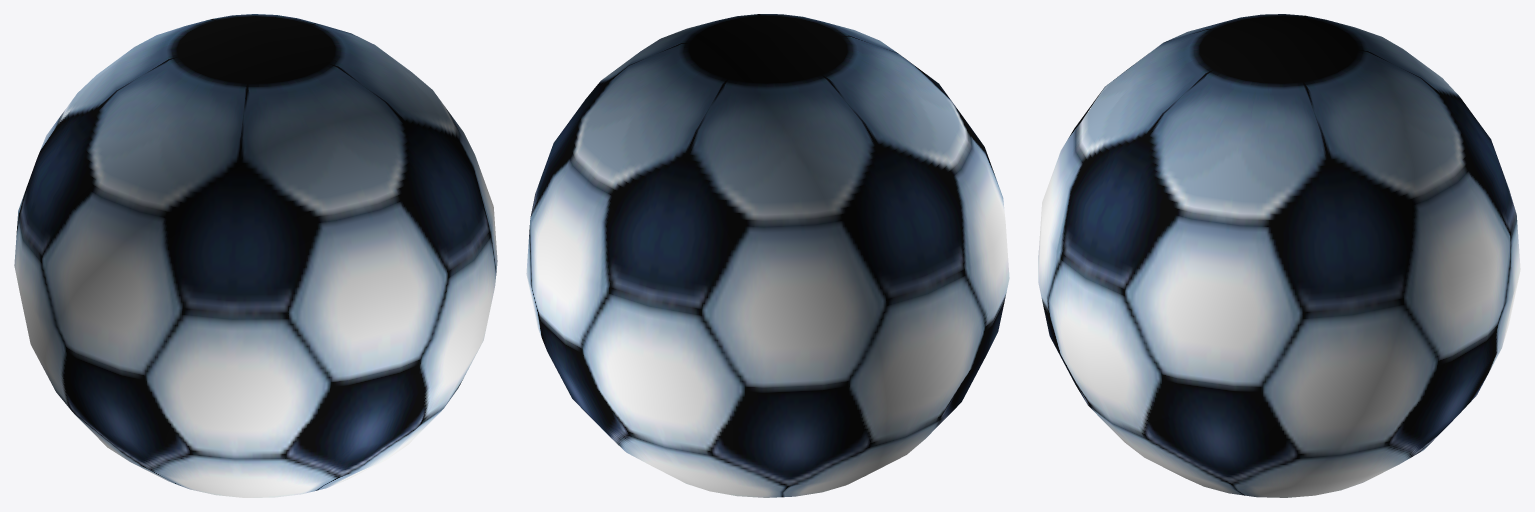
File: static.ico.obj
3 renders of one model, left to right at view 1: azimuth 30°, elevation 25°; view 2: azimuth 150°, elevation 25°; view 3: azimuth 270°, elevation 25°, orthographic.
Bounding box in the file's own units: 4.23 × 4.25 × 4.22.
Materials: 1 (1 with a texture image).
